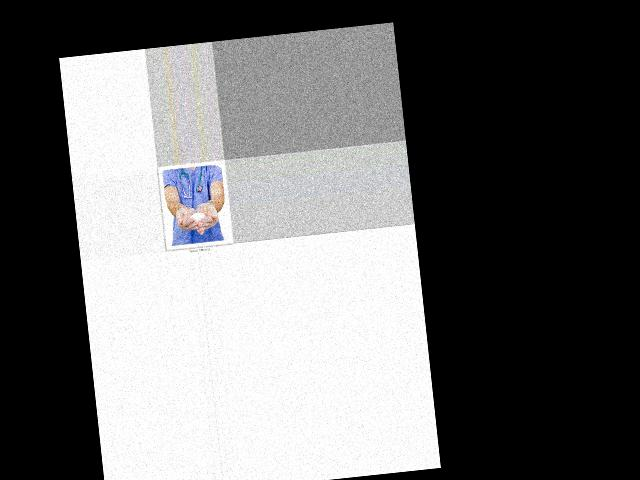egg: (189, 211, 205, 223)
